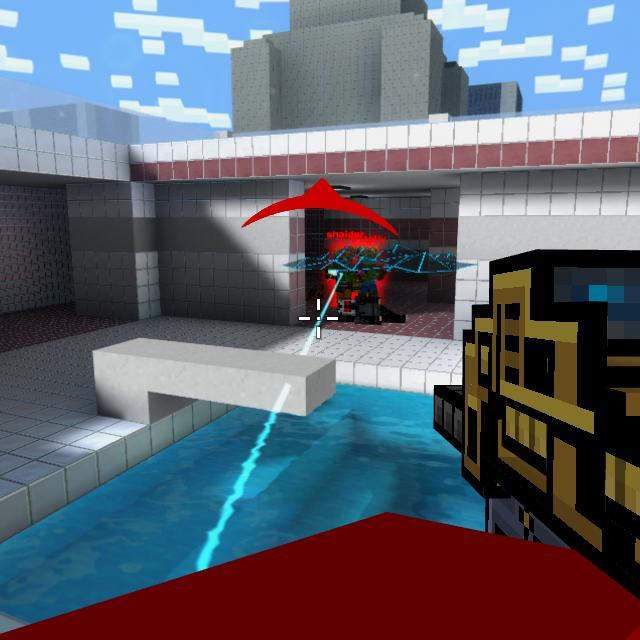Enemy: (325, 246, 387, 308), (353, 249, 388, 304)
